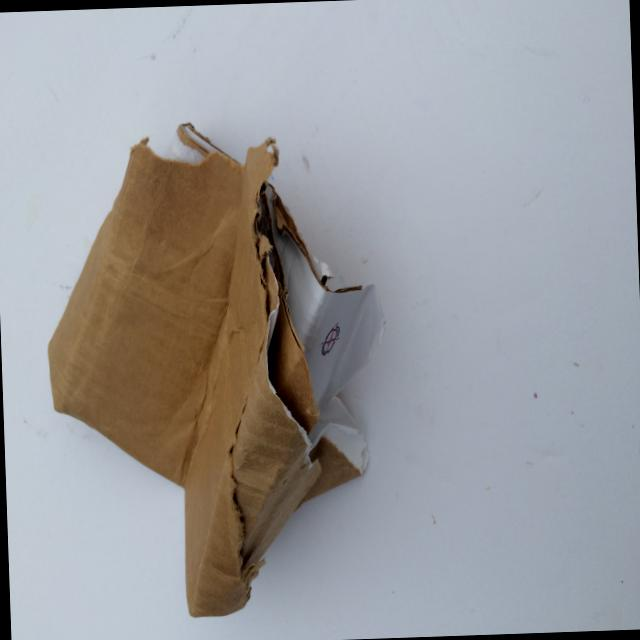Cardboard: (26, 92, 400, 628)
